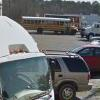Car: (60, 38, 100, 79)
